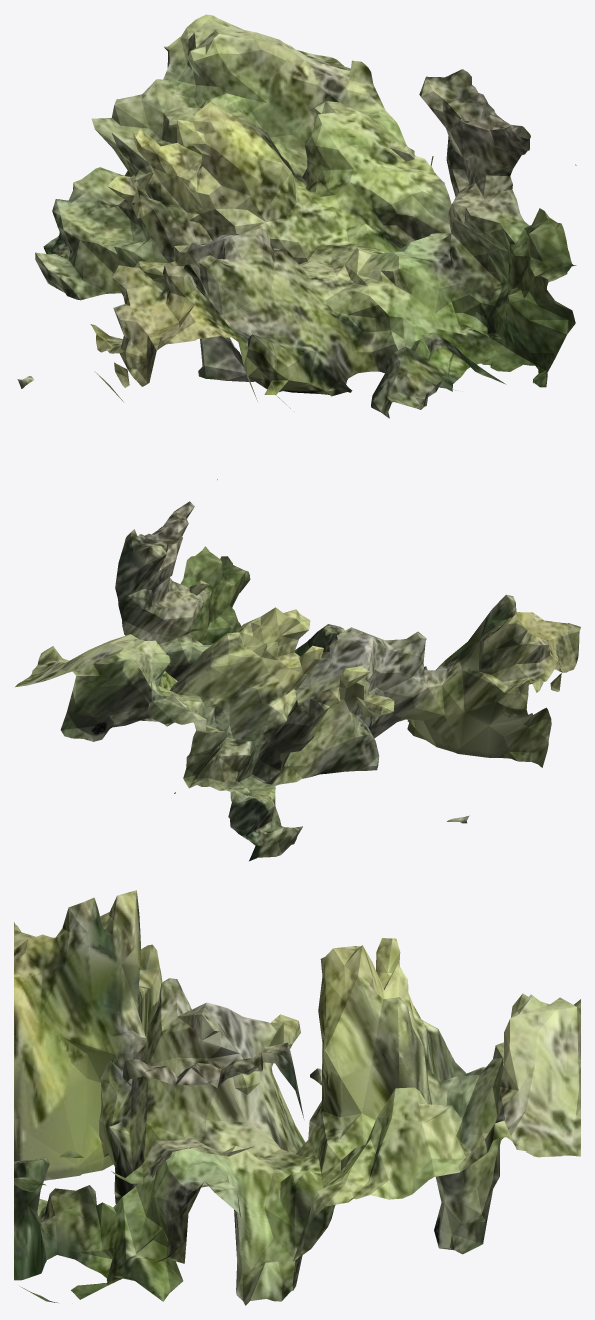
3 renders of one model, top to bottom at view 1: azimuth 30°, elevation 25°; view 2: azimuth 150°, elevation 25°; view 3: azimuth 270°, elevation 25°, orthographic. The views are drawn at different scales.
Bounding box in the file's own units: 11.8 × 5.98 × 11.8.
4 materials, 4 textured.
